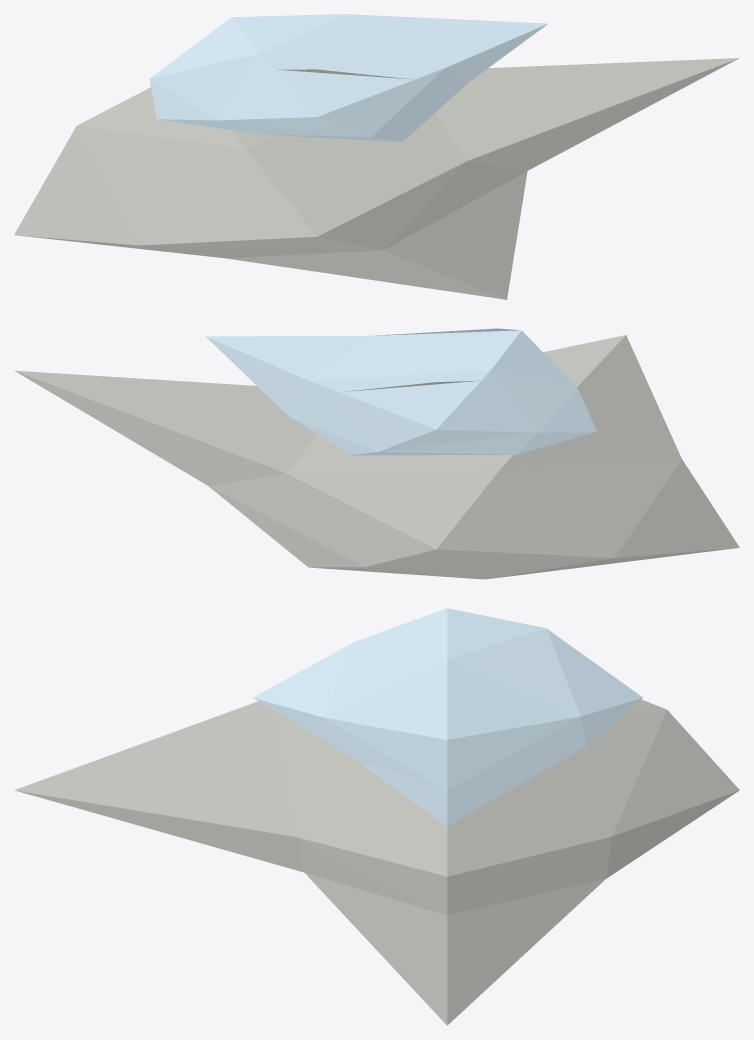
Rendered from puddle_stone_v08.glb.
3 views of the same model, one above another, from view 1: azimuth 30°, elevation 25°; view 2: azimuth 150°, elevation 25°; view 3: azimuth 270°, elevation 25° (orthographic). The views are drawn at different scales.
Parts seen in each view (by area): view 1: lod0; view 2: lod0; view 3: lod0.
Part boxes in pixels (x1=…): lod0: x1=14, y1=14, x2=739, y2=299; lod0: x1=14, y1=328, x2=739, y2=579; lod0: x1=14, y1=608, x2=739, y2=1025.
Size of what is drawn, in the model's own units: 0.656 by 0.1696 by 0.4974.
